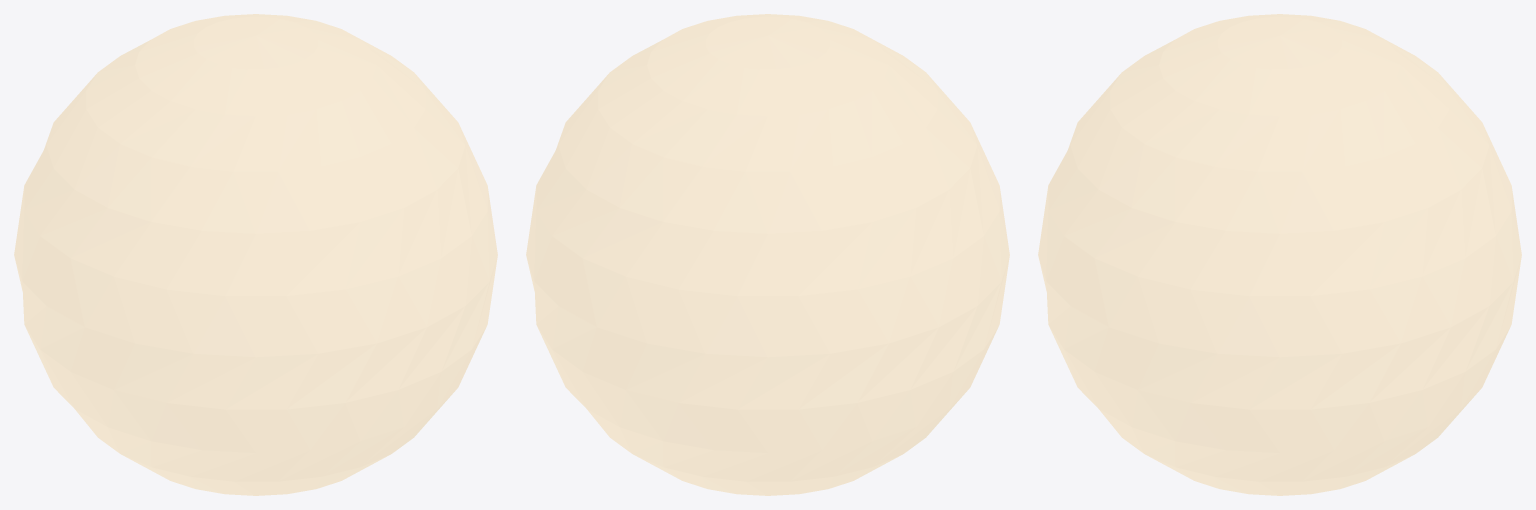
The model's file is local-star.glb.
The picture shows the model from 3 angles, left to right: view 1: azimuth 30°, elevation 25°; view 2: azimuth 150°, elevation 25°; view 3: azimuth 270°, elevation 25°; orthographic projection.
Visible parts, largest first — view 1: local-star; view 2: local-star; view 3: local-star.
Boxes of the visible parts, box(x1,y1,x2,y2) form: local-star: box(14, 14, 497, 495); local-star: box(526, 14, 1009, 495); local-star: box(1038, 14, 1521, 495).
Bounding box in the file's own units: 3 × 3 × 3.
